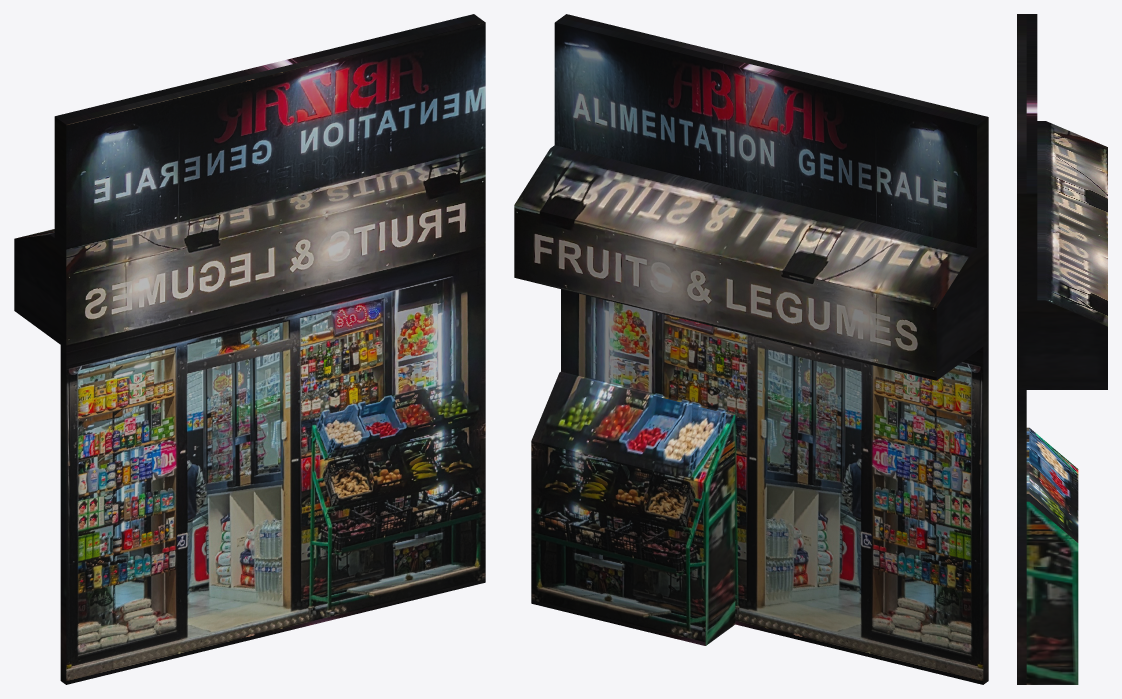
File: Shop8.fbx
The picture shows the model from 3 angles, left to right: view 1: azimuth 30°, elevation 25°; view 2: azimuth 150°, elevation 25°; view 3: azimuth 270°, elevation 25°; orthographic projection. The views are drawn at different scales.
Visible parts, largest first — view 1: Cube; view 2: Cube; view 3: Cube.
Boxes of the visible parts, left/top/right/bottom form: Cube: left=14, top=14, right=485, bottom=684; Cube: left=514, top=14, right=988, bottom=684; Cube: left=1017, top=14, right=1107, bottom=684.
Size of the model in its own units: 3.37 by 0.7205 by 4.3.
Materials: 1 (1 with a texture image).
